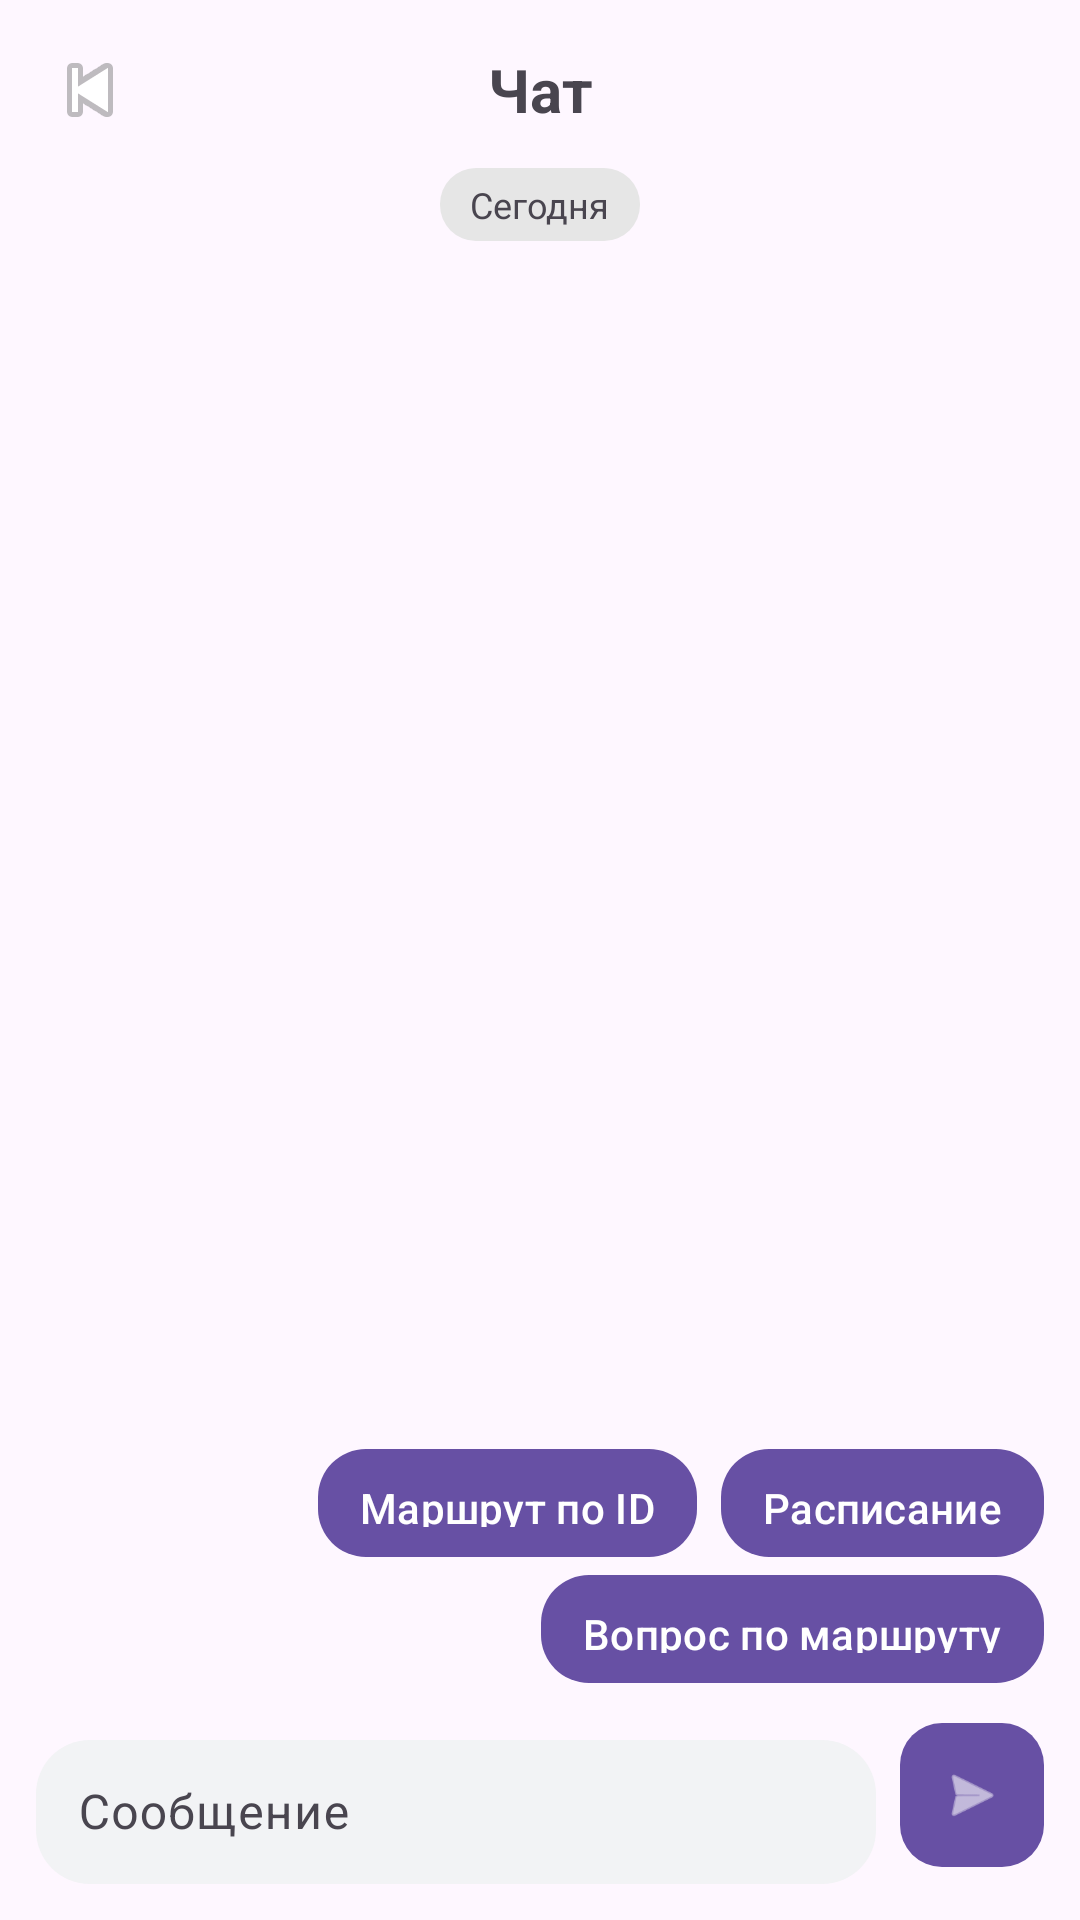

Icon bounding boxes for this 1080*1920 phone screenshot, format (x1, y1, x2, y2):
Назад: (67, 63, 113, 117)
